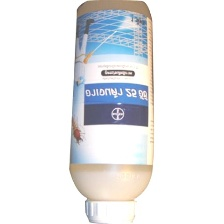insecticide: (66, 0, 157, 224)
